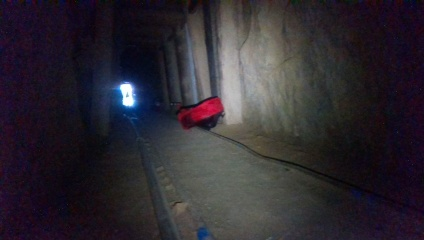backpack: (172, 95, 222, 131)
drill: (167, 100, 181, 116)
